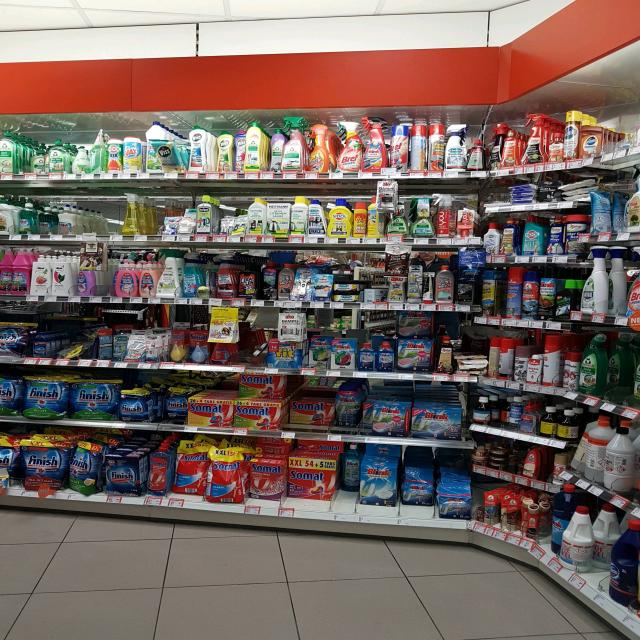unorganised: (247, 450, 466, 519), (288, 397, 360, 431), (68, 380, 122, 423), (411, 123, 445, 173), (67, 446, 100, 496), (501, 497, 541, 535), (174, 454, 207, 497), (574, 414, 598, 472), (214, 131, 244, 177), (153, 136, 183, 178), (17, 205, 56, 237), (487, 337, 514, 381), (87, 129, 110, 177), (352, 260, 390, 289), (74, 257, 98, 302), (53, 333, 93, 360), (235, 265, 264, 301), (156, 391, 187, 424), (95, 330, 127, 361), (263, 129, 285, 172), (215, 207, 248, 234), (303, 340, 329, 370), (25, 150, 47, 176), (509, 397, 523, 430), (160, 213, 180, 235)
